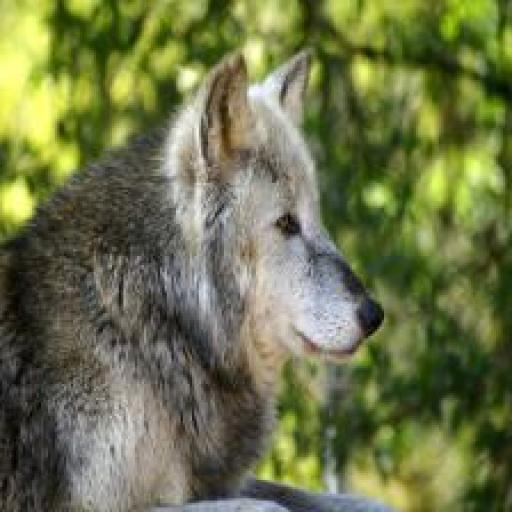wolf: (0, 48, 387, 512)
